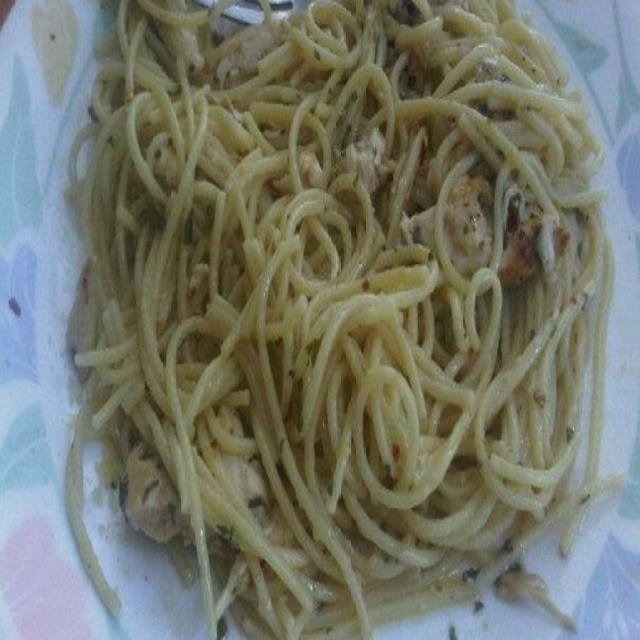Oil pasta: (55, 10, 603, 580)
